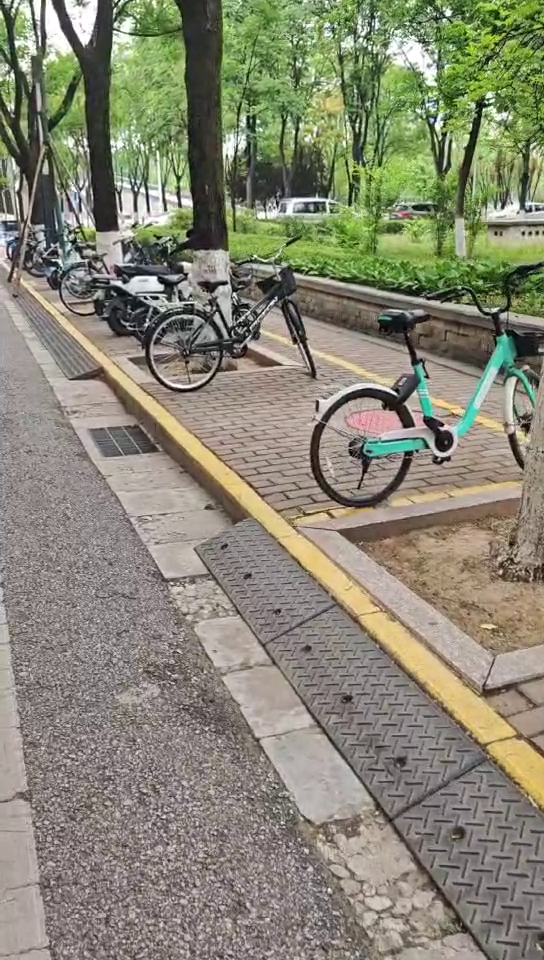others: (143, 247, 320, 398), (101, 236, 218, 335)
shared_bike_qingcong: (314, 254, 534, 501)
